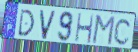9: (56, 10, 74, 43)
C: (113, 17, 133, 47)
D: (17, 9, 36, 38)
H: (74, 12, 95, 45)
M: (91, 14, 117, 47)
V: (39, 9, 57, 41)
